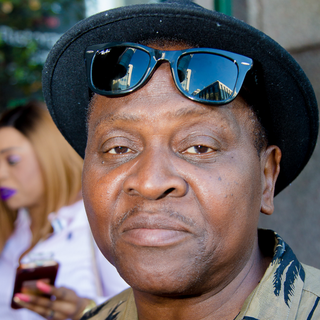eye: (176, 139, 223, 162), (99, 139, 140, 162)
